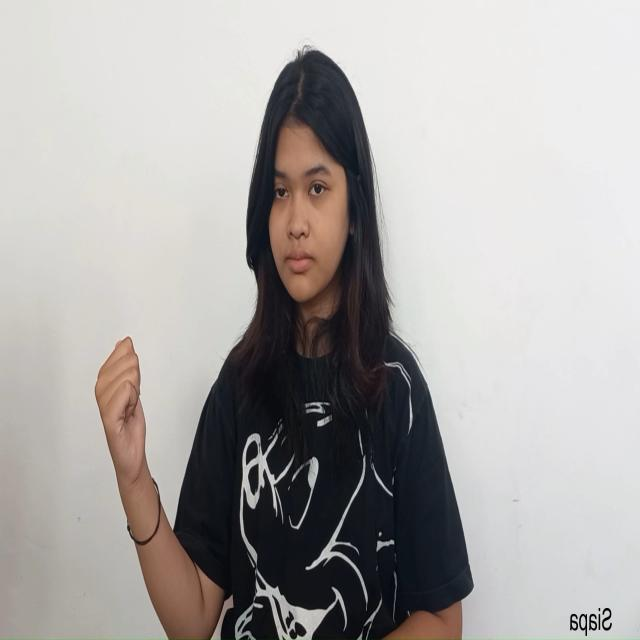Siapa -BISINDO-: (92, 332, 148, 508)
